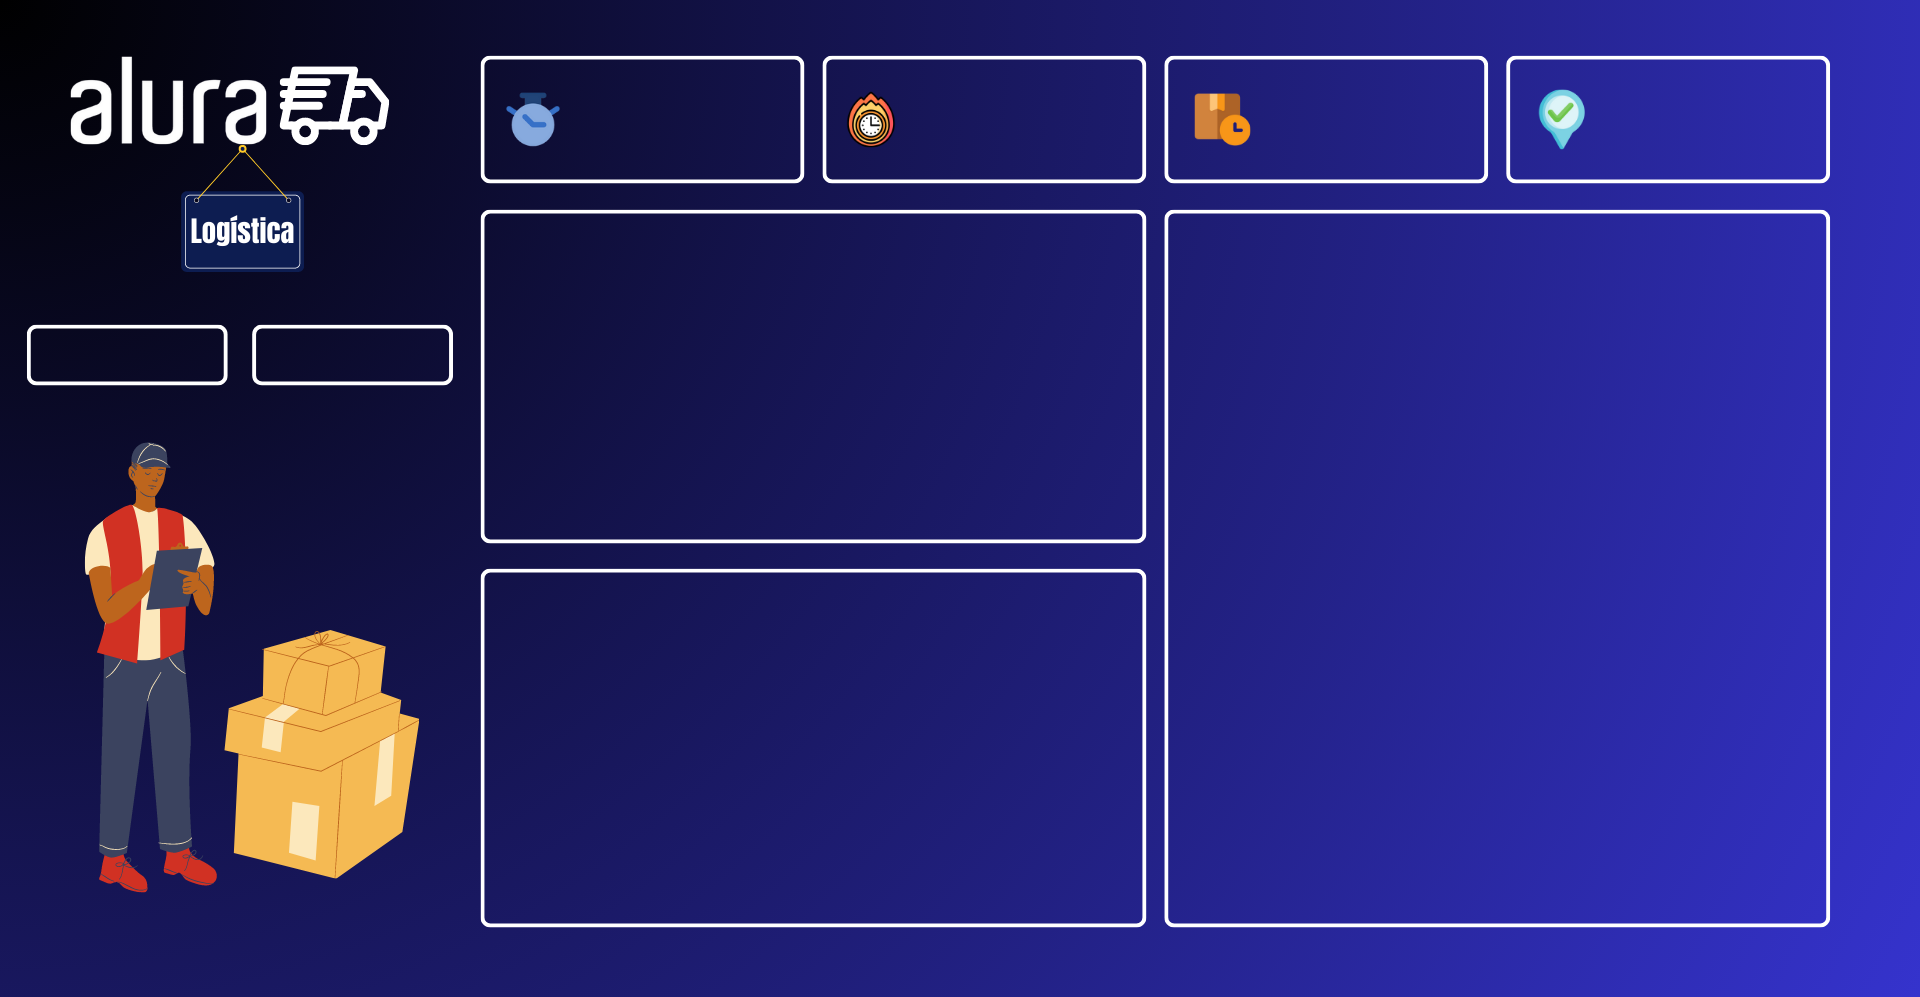

What the dashboard file says about the page in this screenshot:
{"tool":"powerbi","page":{"name":"Logística","canvas":[1280,720],"ordinal":0},"visuals":[{"type":"card","fields":{"Values":["Medidas.Atrasados"]},"box":[615.5,33.6,154.5,88.2],"z":0},{"type":"card","fields":{"Values":["Medidas.No Prazo"]},"box":[364.5,38.2,171.8,80],"z":1000},{"type":"card","fields":{"Values":["Medidas.Total de Pedidos"]},"box":[1090.9,35.5,160,82.7],"z":2000},{"type":"card","fields":{"Values":["Medidas.Entregues"]},"box":[852.7,35.5,159.1,85.5],"z":3000},{"type":"map","fields":{"Category":["Pedidos.UF da entrega","Pedidos.Latitude","Pedidos.Longitude"],"Size":["Sum(Pedidos.Quantidade)"],"Series":["Pedidos.País"]},"box":[812.7,191.8,457.3,474.5],"z":4000},{"type":"areaChart","fields":{"Category":["Pedidos.Data da compra.Variation.Hierarquia de datas.Mês"],"Y":["Avg(Pedidos.S2D)"]},"box":[326.4,199.1,446.4,181.8],"z":5000},{"type":"clusteredColumnChart","fields":{"Category":["Estoque.Data atualização.Variation.Hierarquia de datas.Ano"],"Y":["Avg(Estoque.Quantidade)"]},"box":[331.3,471.9,437.9,194.3],"z":6000},{"type":"actionButton","box":[62.7,331.8,156.4,49.1],"z":7000}]}

Visuals, with their boxes on the page's 1280x720 design canvas (x1, y1, x2, y2). These are canvas units, not pixel positions in the 1920x997 screenshot, which may show the page scaled, cropped or inside an application window:
card - Medidas.Atrasados: <region>616, 34, 770, 122</region>
card - Medidas.No Prazo: <region>364, 38, 536, 118</region>
card - Medidas.Total de Pedidos: <region>1091, 36, 1251, 118</region>
card - Medidas.Entregues: <region>853, 36, 1012, 121</region>
map - Pedidos.UF da entrega x Pedidos.Latitude: <region>813, 192, 1270, 666</region>
areaChart - Pedidos.Data da compra.Variation.Hierarquia de datas.Mês x Avg(Pedidos.S2D): <region>326, 199, 773, 381</region>
clusteredColumnChart - Estoque.Data atualização.Variation.Hierarquia de datas.Ano x Avg(Estoque.Quantidade): <region>331, 472, 769, 666</region>
actionButton: <region>63, 332, 219, 381</region>
